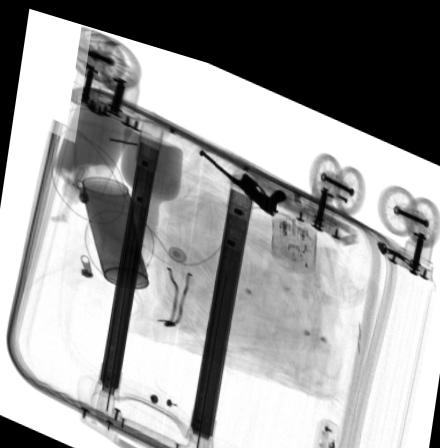Gun: (197, 136, 287, 201)
